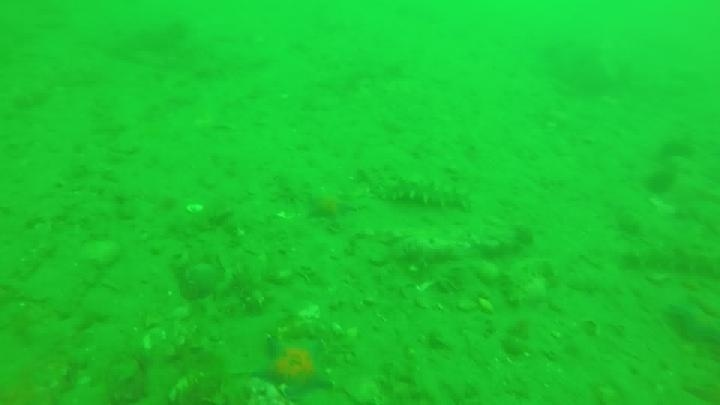echinus: (643, 168, 677, 197)
holothurian: (363, 170, 472, 212), (622, 240, 718, 279)
starfish: (250, 333, 334, 402), (666, 300, 720, 350), (304, 187, 357, 225)
